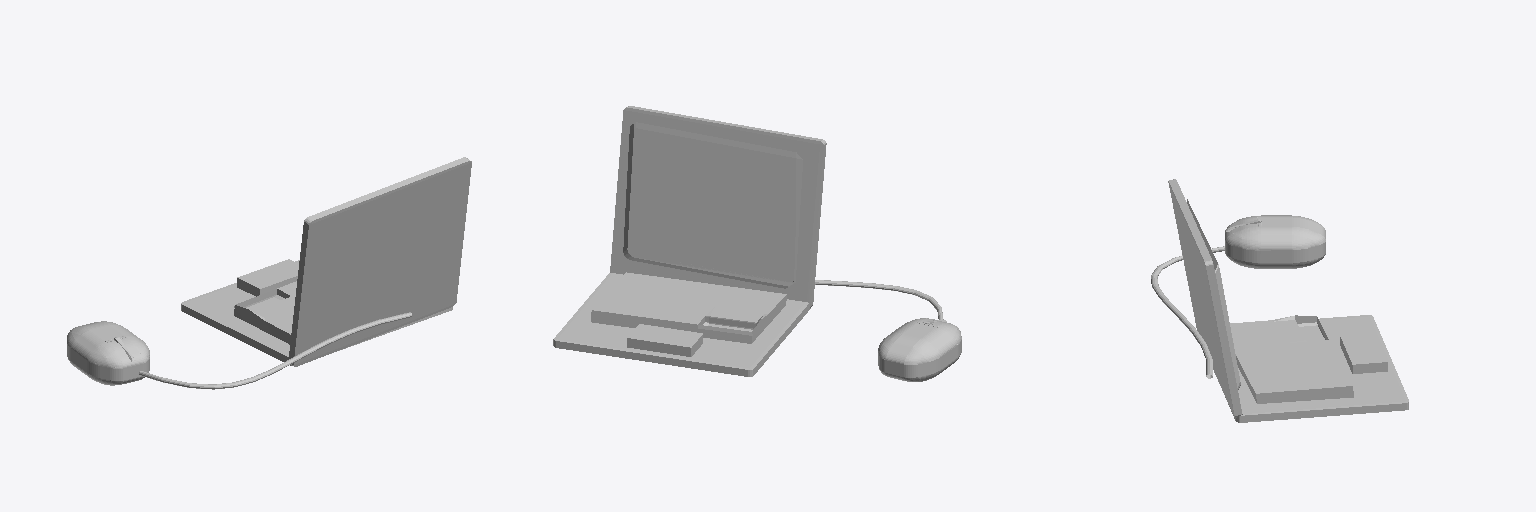
The model's file is ordenador.obj.
3 views of the same model, side by side, from view 1: azimuth 30°, elevation 25°; view 2: azimuth 150°, elevation 25°; view 3: azimuth 270°, elevation 25° (orthographic).
Visible parts, largest first — view 1: Cube.001_Cube.002; view 2: Cube.001_Cube.002; view 3: Cube.001_Cube.002.
Part boxes in pixels (x1,y1,x2,y2): Cube.001_Cube.002: (67,157,471,389); Cube.001_Cube.002: (553,106,961,381); Cube.001_Cube.002: (1151,179,1408,422).
Size of the model in its own units: 1.13 by 0.491 by 0.71.